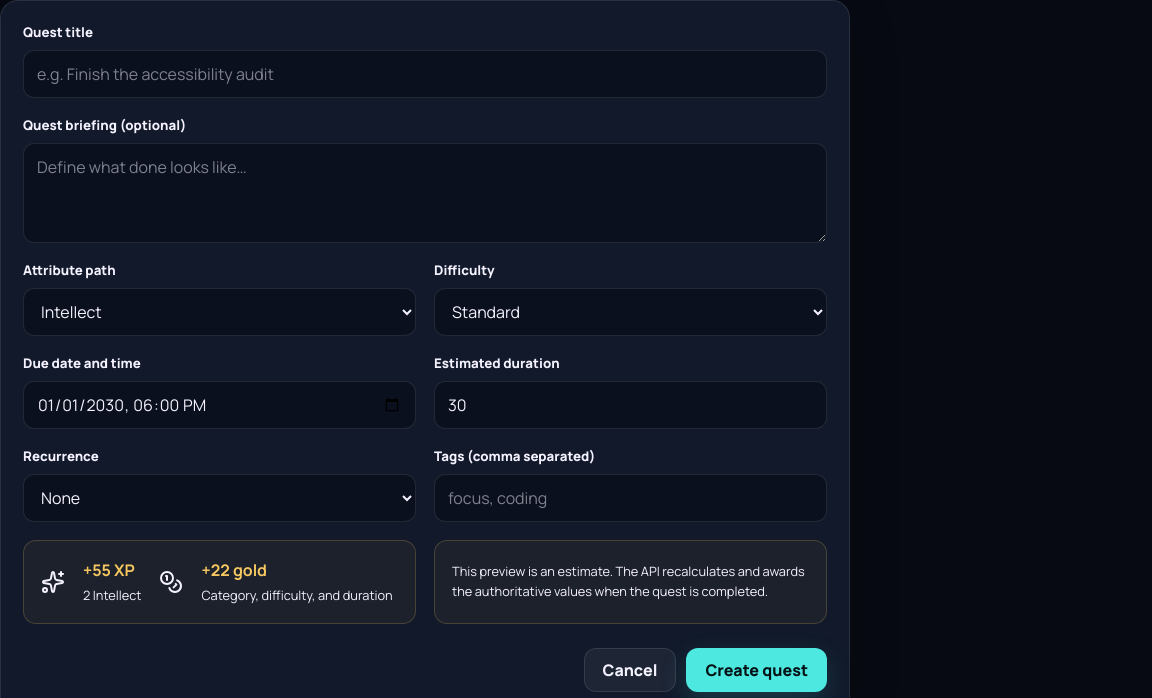
Test: QuestForm › shows title and past-date validation
Replace the text in the field labelled "Due date and time" with "2020-01-01T12:00" at (220, 405), box x1=23 y1=381 x2=416 y2=429
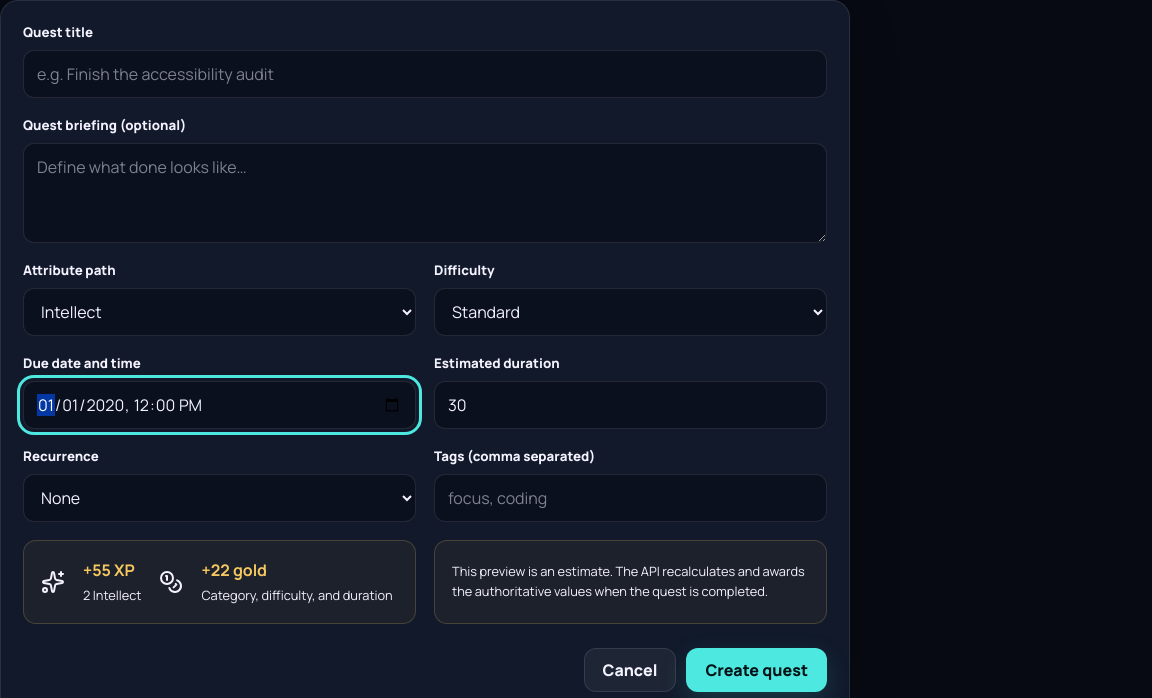
Click the button "Create quest" at (757, 670), box x1=686 y1=648 x2=827 y2=692
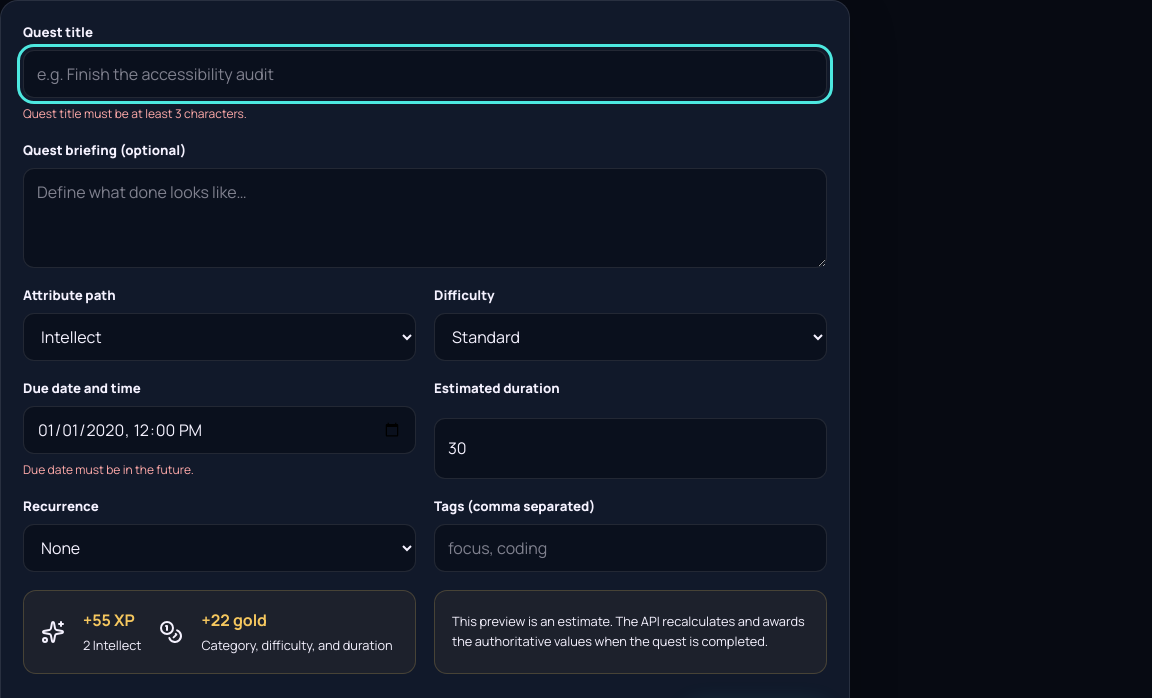
Expected: the text "Quest title must be at least 3 characters." is shown, x1=23 y1=105 x2=247 y2=122
Expected: the text "Due date must be in the future." is shown, x1=23 y1=461 x2=194 y2=478
